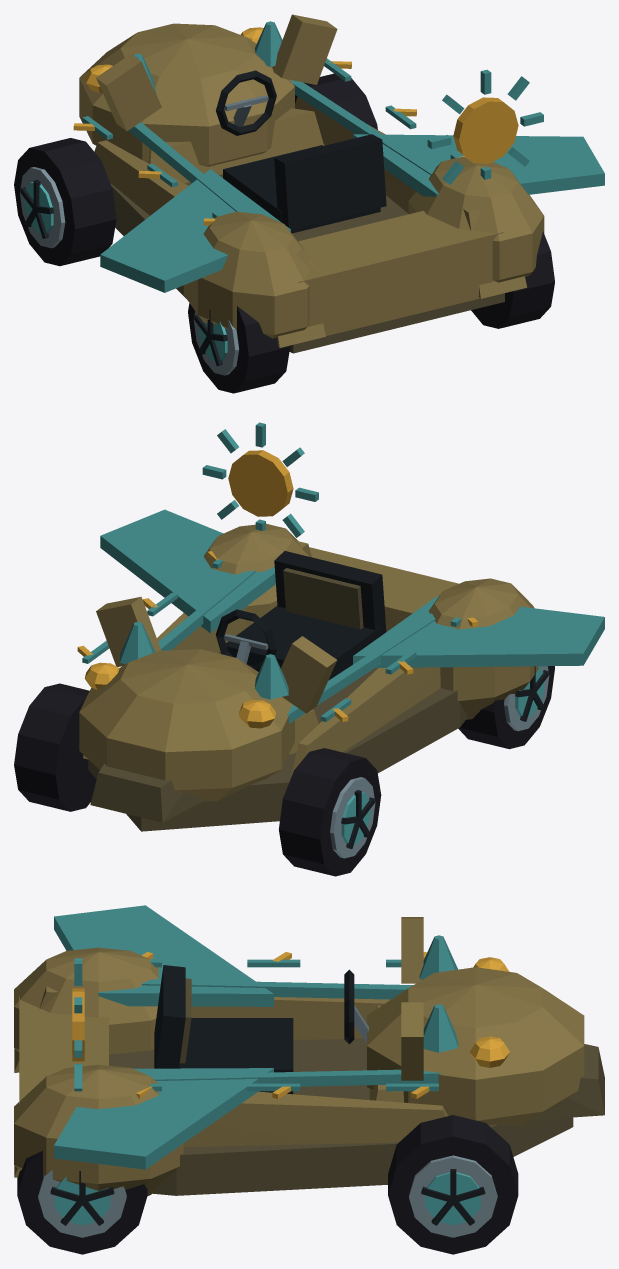
Rendered from kart.glb.
3 renders of one model, top to bottom at view 1: azimuth 30°, elevation 25°; view 2: azimuth 150°, elevation 25°; view 3: azimuth 270°, elevation 25°, orthographic. The views are drawn at different scales.
Parts seen in each view (by area): view 1: identity-beast-beast-sculpted-prow-and-haunches, identity-beast-motif-wings, identity-beast-driver-cockpit, wheel-front-left, wheel-rear-left, identity-beast-motif-sun, wheel-rear-right, identity-beast-motif-runes, wheel-front-right; view 2: identity-beast-beast-sculpted-prow-and-haunches, identity-beast-motif-wings, identity-beast-driver-cockpit, wheel-front-left, wheel-front-right, identity-beast-motif-sun, wheel-rear-left, identity-beast-motif-runes; view 3: identity-beast-beast-sculpted-prow-and-haunches, identity-beast-motif-wings, wheel-front-right, identity-beast-driver-cockpit, wheel-rear-right, identity-beast-motif-runes, identity-beast-motif-sun.
Part boxes in pixels (x1,y1,x2,y2): identity-beast-beast-sculpted-prow-and-haunches: (79,14,544,353); identity-beast-motif-wings: (100,134,604,292); identity-beast-driver-cockpit: (215,70,386,233); wheel-front-left: (14,138,116,266); wheel-rear-left: (188,303,290,393); identity-beast-motif-sun: (427,69,543,184); wheel-rear-right: (471,231,554,328); identity-beast-motif-runes: (73,58,465,225); wheel-front-right: (295,73,377,129); identity-beast-beast-sculpted-prow-and-haunches: (79,523,540,831); identity-beast-motif-wings: (100,509,604,667); identity-beast-driver-cockpit: (215,551,386,680); wheel-front-left: (278,748,381,876); wheel-front-right: (14,683,96,811); identity-beast-motif-sun: (202,422,318,537); wheel-rear-left: (458,666,554,749); identity-beast-motif-runes: (77,551,478,721); identity-beast-beast-sculpted-prow-and-haunches: (14,917,604,1196); identity-beast-motif-wings: (54,905,273,1169); wheel-front-right: (388,1115,518,1254); identity-beast-driver-cockpit: (154,965,368,1094); wheel-rear-right: (17,1151,147,1254); identity-beast-motif-runes: (135,952,438,1098); identity-beast-motif-sun: (72,958,84,1091).
Bounding box in the file's own units: 2.92 × 1.47 × 2.9.
